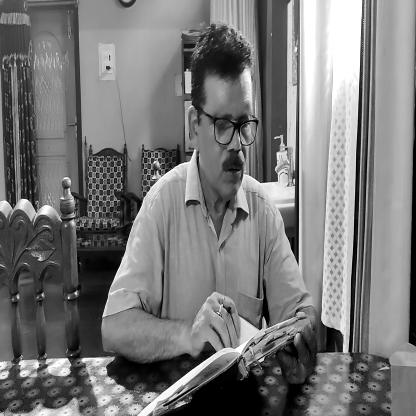Normal: (189, 74, 264, 206)
